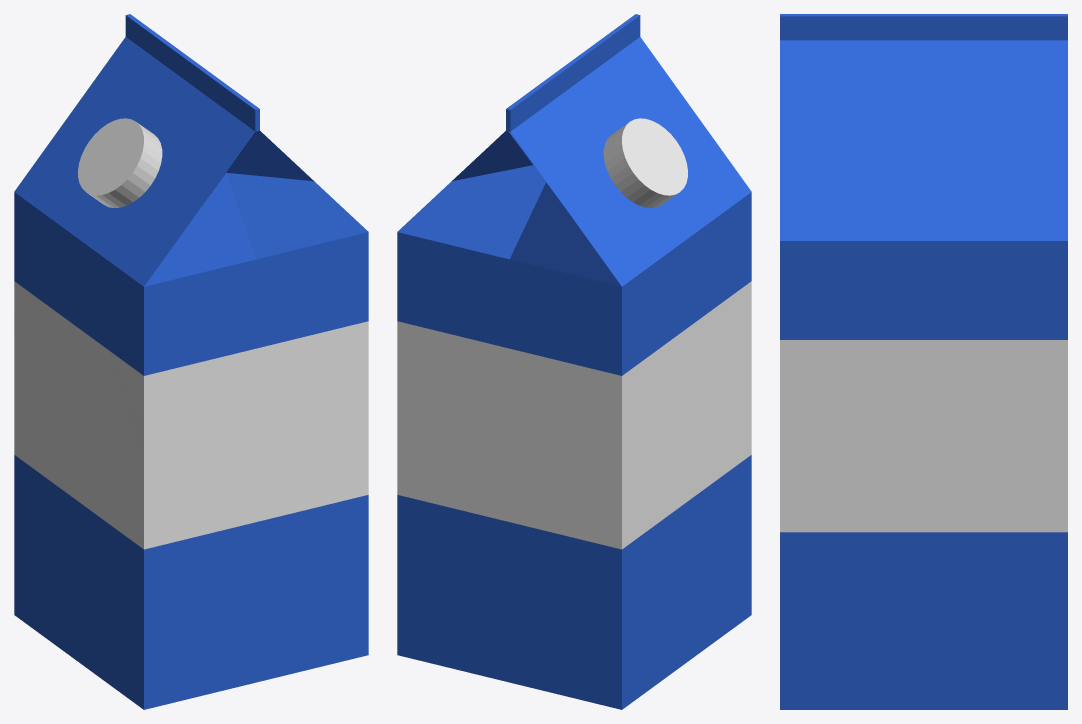
The model's file is Milch.fbx.
3 renders of one model, left to right at view 1: azimuth 30°, elevation 25°; view 2: azimuth 150°, elevation 25°; view 3: azimuth 270°, elevation 25°, orthographic. The views are drawn at different scales.
Visible parts, largest first — view 1: Cube, Cylinder; view 2: Cube, Cylinder; view 3: Cube.
Boxes of the visible parts, box(x1,y1,x2,y2) form: Cube: box(14, 14, 368, 709); Cylinder: box(78, 118, 162, 208); Cube: box(397, 14, 751, 709); Cylinder: box(603, 118, 687, 208); Cube: box(780, 14, 1067, 709).
Size of the model in its own units: 200 by 487 by 200.
